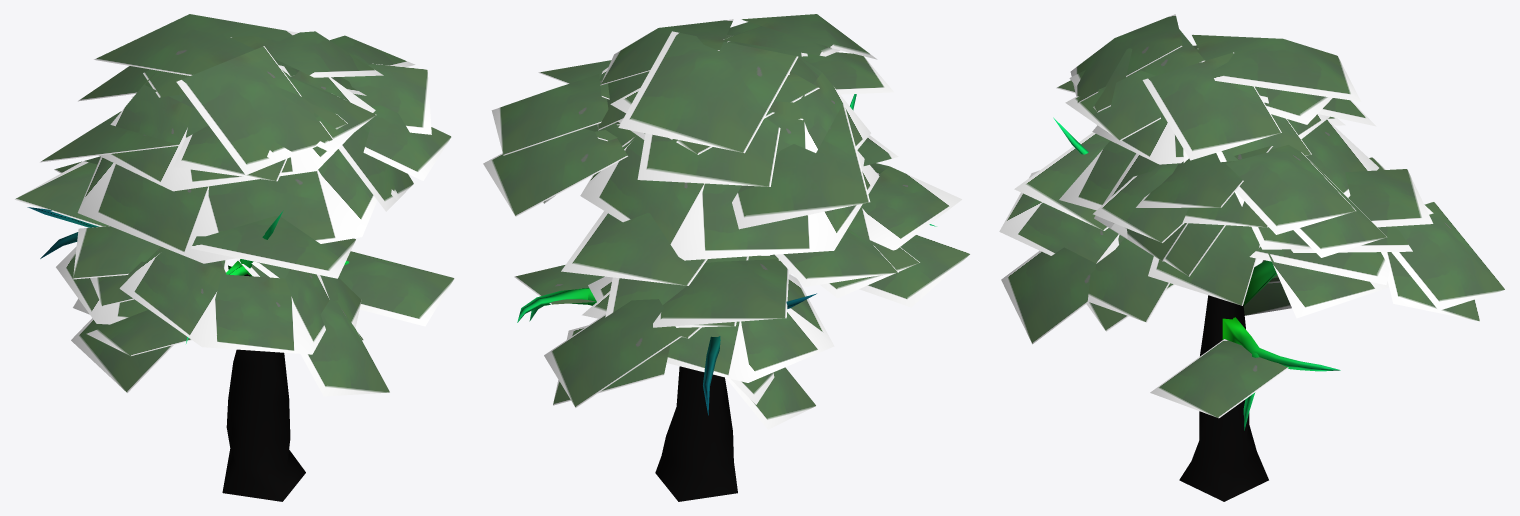
The model's file is pear_tree_LOD1.fbx.
3 renders of one model, left to right at view 1: azimuth 30°, elevation 25°; view 2: azimuth 150°, elevation 25°; view 3: azimuth 270°, elevation 25°, orthographic. The views are drawn at different scales.
Visible parts, largest first — view 1: polySurface543; view 2: polySurface543; view 3: polySurface543.
Part boxes in pixels (x1,y1,x2,y2): polySurface543: (14,14,454,501); polySurface543: (483,14,970,501); polySurface543: (999,14,1505,501).
Size of the model in its own units: 2.82 by 3.14 by 3.37.
